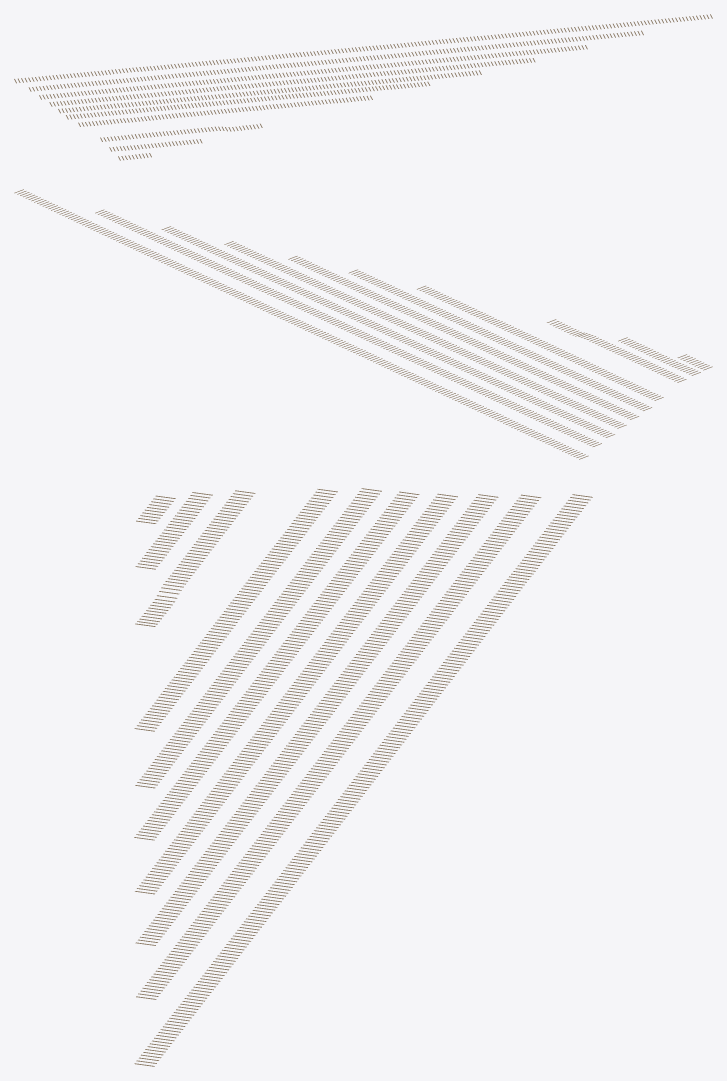
Rendered from c_1628_17830_rail_sleeper.glb.
3 renders of one model, top to bottom at view 1: azimuth 30°, elevation 25°; view 2: azimuth 150°, elevation 25°; view 3: azimuth 270°, elevation 25°, orthographic. The views are drawn at different scales.
Parts seen in each view (by area): view 1: geometry_0; view 2: geometry_0; view 3: geometry_0.
Part boxes in pixels (x1,y1,x2,y2): geometry_0: [14, 14, 712, 160]; geometry_0: [14, 189, 712, 459]; geometry_0: [134, 488, 592, 1066].
Bounding box in the file's own units: 153 × 1.06 × 51.61.
